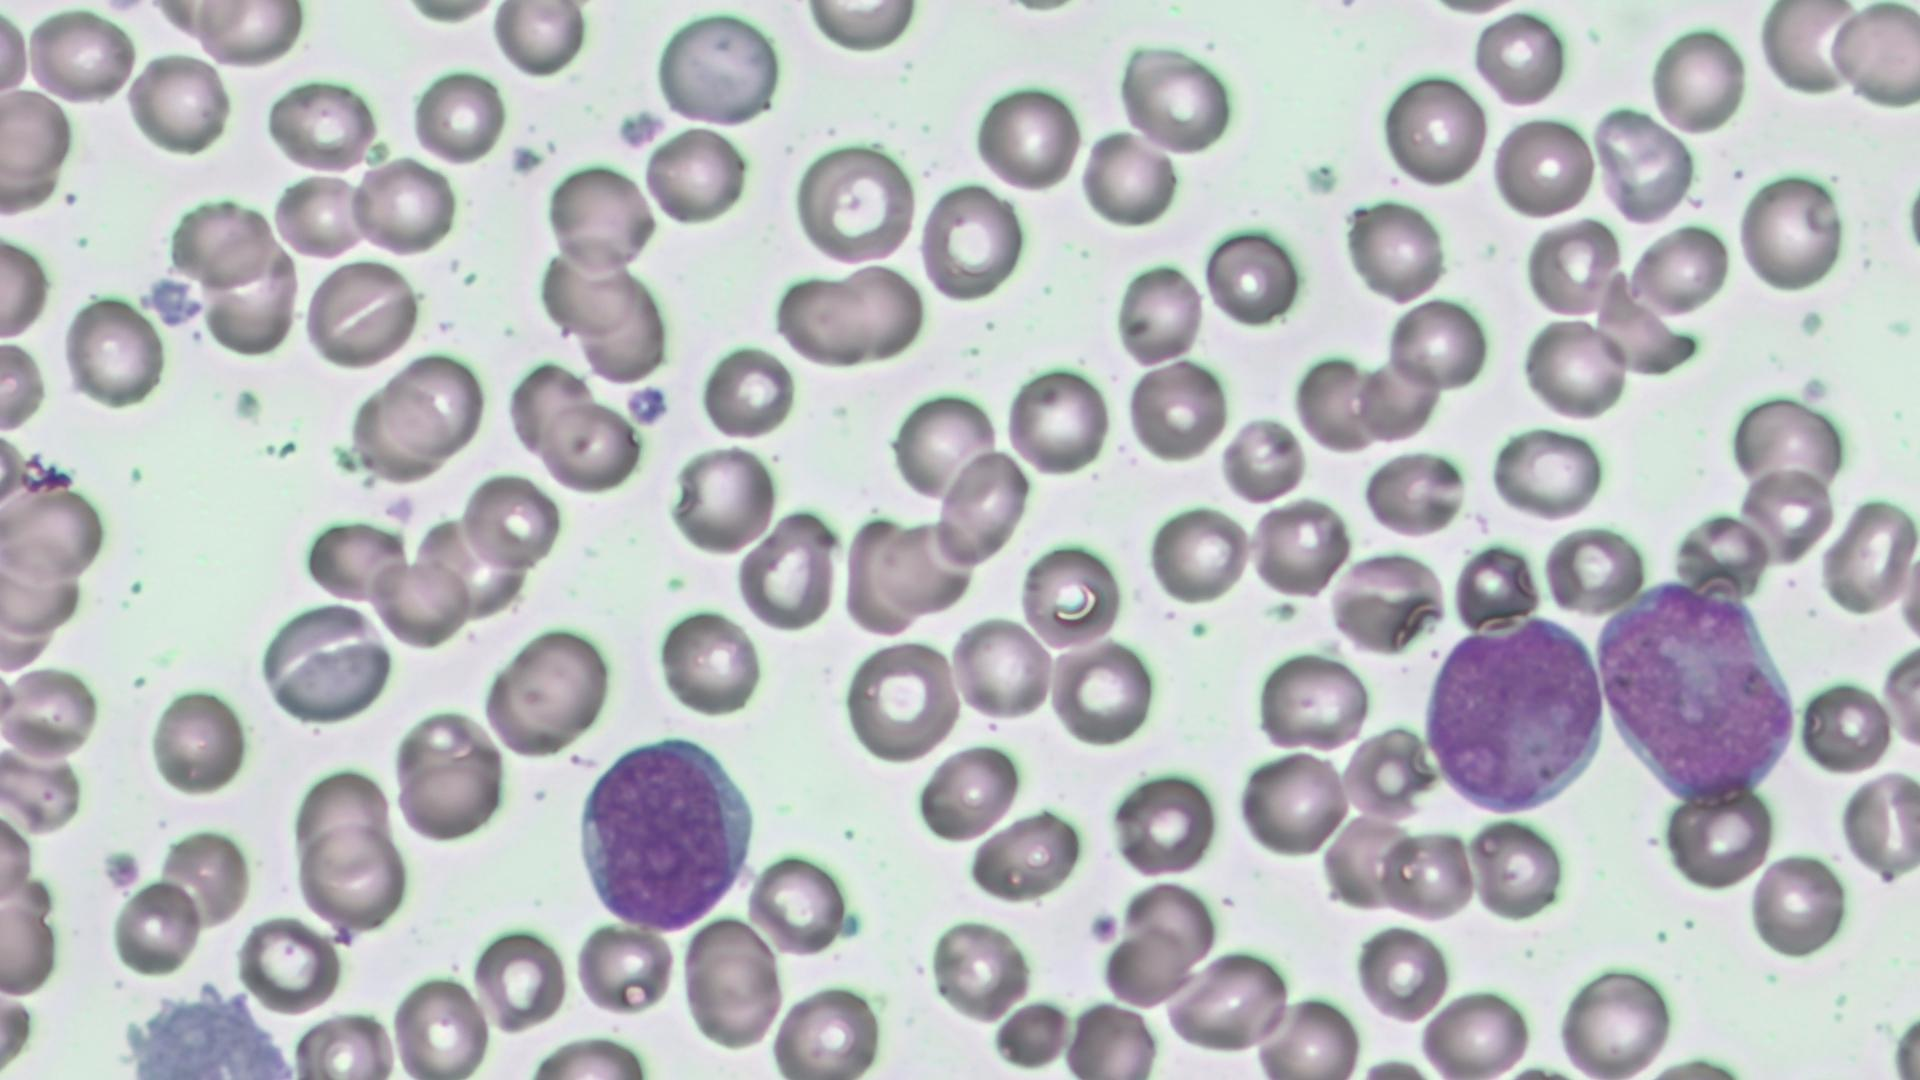Platelets: (1900, 173, 1920, 268), (838, 908, 866, 942)
RBC: (790, 136, 918, 269), (652, 6, 784, 129), (392, 712, 502, 847), (842, 636, 960, 761), (497, 625, 612, 752), (1734, 167, 1848, 295), (681, 912, 786, 1050), (1556, 963, 1676, 1077), (536, 243, 661, 351), (916, 179, 1024, 304), (734, 508, 841, 634), (666, 441, 779, 560), (1378, 68, 1488, 190), (303, 257, 421, 370), (971, 77, 1084, 195), (263, 624, 393, 725), (889, 387, 998, 506), (1236, 746, 1350, 859), (1166, 948, 1287, 1054), (1120, 45, 1233, 157), (654, 604, 764, 719), (1018, 537, 1126, 654), (545, 161, 655, 275), (1327, 547, 1444, 654), (1728, 390, 1848, 494), (296, 820, 409, 930), (61, 292, 166, 410), (1660, 782, 1772, 892), (1006, 361, 1112, 476), (1820, 494, 1918, 618), (1114, 874, 1216, 993), (1342, 194, 1450, 306), (1518, 315, 1629, 423), (24, 5, 138, 110), (640, 120, 749, 229), (1049, 635, 1156, 746), (949, 612, 1055, 724), (1256, 648, 1370, 752), (1647, 22, 1749, 138), (1108, 769, 1216, 878), (126, 49, 232, 160), (1596, 111, 1698, 226), (201, 242, 302, 358), (349, 153, 458, 260), (146, 684, 248, 798), (933, 446, 1029, 567), (927, 916, 1035, 1023), (1748, 849, 1850, 962), (1488, 424, 1608, 520), (1247, 494, 1352, 602), (964, 808, 1082, 904), (767, 981, 886, 1076), (1124, 358, 1229, 465), (1489, 113, 1596, 218), (769, 270, 881, 369), (1146, 502, 1252, 606), (391, 971, 493, 1078), (2, 485, 113, 583), (384, 351, 486, 457), (746, 850, 846, 958), (1539, 521, 1650, 618), (264, 75, 375, 172), (1352, 921, 1454, 1026), (1468, 7, 1570, 112), (914, 740, 1022, 839), (347, 380, 449, 484), (168, 193, 276, 291), (292, 763, 395, 865), (1415, 987, 1532, 1076), (236, 912, 340, 1012), (1826, 0, 1918, 113), (572, 921, 681, 1016), (822, 261, 927, 359), (1467, 817, 1564, 923), (1521, 214, 1620, 317), (1203, 223, 1302, 326), (1385, 295, 1489, 393), (460, 470, 560, 571), (2, 662, 104, 761), (471, 926, 568, 1029), (697, 340, 794, 443), (1628, 219, 1730, 316), (1081, 128, 1178, 230), (364, 554, 468, 649), (1113, 258, 1204, 366), (409, 65, 507, 165), (1319, 812, 1415, 914), (106, 875, 202, 977), (1758, 2, 1857, 100), (1378, 826, 1478, 923), (538, 399, 640, 492), (302, 516, 409, 604), (1736, 464, 1834, 560), (1362, 447, 1464, 538), (1838, 766, 1918, 882), (1252, 992, 1362, 1076), (0, 85, 75, 208), (505, 358, 595, 459), (1798, 675, 1888, 775), (1102, 918, 1197, 1010), (1292, 353, 1382, 450), (1451, 540, 1546, 631), (269, 170, 366, 259), (487, 0, 589, 79), (1356, 354, 1444, 443), (1221, 413, 1305, 503), (1064, 999, 1160, 1077), (195, 1, 307, 67), (294, 1009, 399, 1078), (797, 0, 923, 53), (989, 994, 1073, 1072), (522, 1030, 657, 1078), (0, 896, 59, 994), (0, 233, 50, 344), (1881, 637, 1920, 752), (0, 338, 45, 436), (0, 805, 35, 907), (1894, 531, 1920, 661), (0, 5, 32, 108)
WBC: (1590, 578, 1803, 804), (1419, 608, 1614, 817), (572, 729, 764, 930), (117, 980, 311, 1074)
